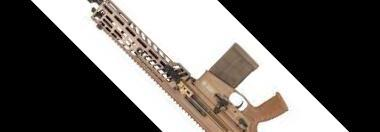larga: (88, 0, 289, 132)
